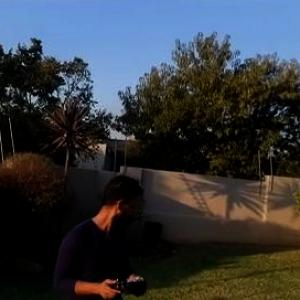follow: (45, 170, 151, 299)
